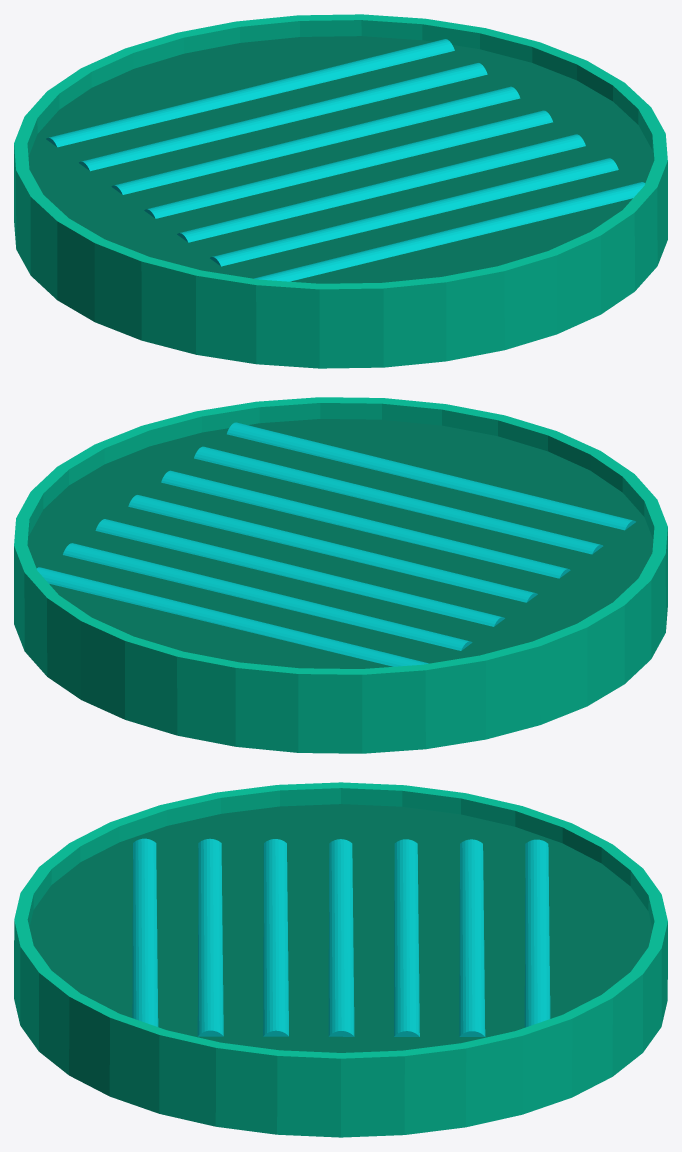
File: Checkers Teal.fbx
The picture shows the model from 3 angles, top to bottom: view 1: azimuth 30°, elevation 25°; view 2: azimuth 150°, elevation 25°; view 3: azimuth 270°, elevation 25°; orthographic projection.
Parts seen in each view (by area): view 1: Checker, Cylinder.002, Cylinder, Cylinder.001, Cylinder.003, Cylinder.004, Cylinder.005, Cylinder.006; view 2: Checker, Cylinder.003, Cylinder.004, Cylinder.006, Cylinder.001, Cylinder.005, Cylinder.002, Cylinder; view 3: Checker, Cylinder.004, Cylinder.001, Cylinder.003, Cylinder.005, Cylinder.002, Cylinder.006, Cylinder.
Part boxes in pixels (x1,y1,x2,y2): Checker: (14, 14, 667, 368); Cylinder.002: (111, 86, 520, 194); Cylinder: (46, 39, 454, 147); Cylinder.001: (79, 63, 487, 171); Cylinder.003: (144, 110, 552, 218); Cylinder.004: (177, 134, 585, 242); Cylinder.005: (210, 158, 618, 266); Cylinder.006: (254, 182, 644, 281); Checker: (14, 397, 667, 753); Cylinder.003: (128, 495, 537, 602); Cylinder.004: (161, 470, 570, 578); Cylinder.006: (227, 422, 635, 530); Cylinder.001: (63, 543, 472, 650); Cylinder.005: (194, 446, 603, 554); Cylinder.002: (95, 519, 504, 626); Cylinder: (36, 567, 428, 666); Checker: (14, 782, 667, 1137); Cylinder.004: (263, 839, 288, 1036); Cylinder.001: (459, 839, 485, 1036); Cylinder.003: (328, 839, 354, 1036); Cylinder.005: (197, 838, 223, 1036); Cylinder.002: (394, 839, 419, 1036); Cylinder.006: (132, 838, 158, 1026); Cylinder: (524, 839, 550, 1027).
Bounding box in the file's own units: 200 × 27.14 × 200.
